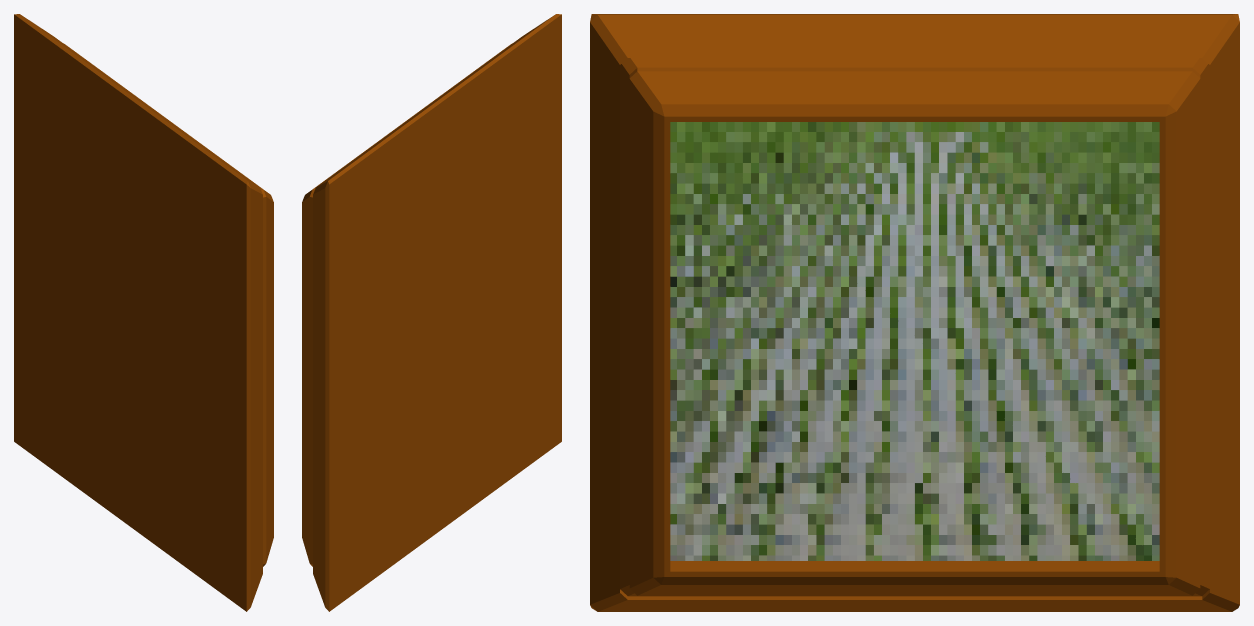
File: Image_RicePaddy.glb
3 renders of one model, left to right at view 1: azimuth 30°, elevation 25°; view 2: azimuth 150°, elevation 25°; view 3: azimuth 270°, elevation 25°, orthographic. The views are drawn at different scales.
Visible parts, largest first — view 1: Plane; view 2: Plane; view 3: Plane.
Part boxes in pixels (<box>): Plane: <box>14,14,273,611</box>; Plane: <box>302,14,561,611</box>; Plane: <box>590,14,1239,611</box>.
Bounding box in the file's own units: 0.0513 × 0.3996 × 0.3942.
Materials: 2 (1 with a texture image).
